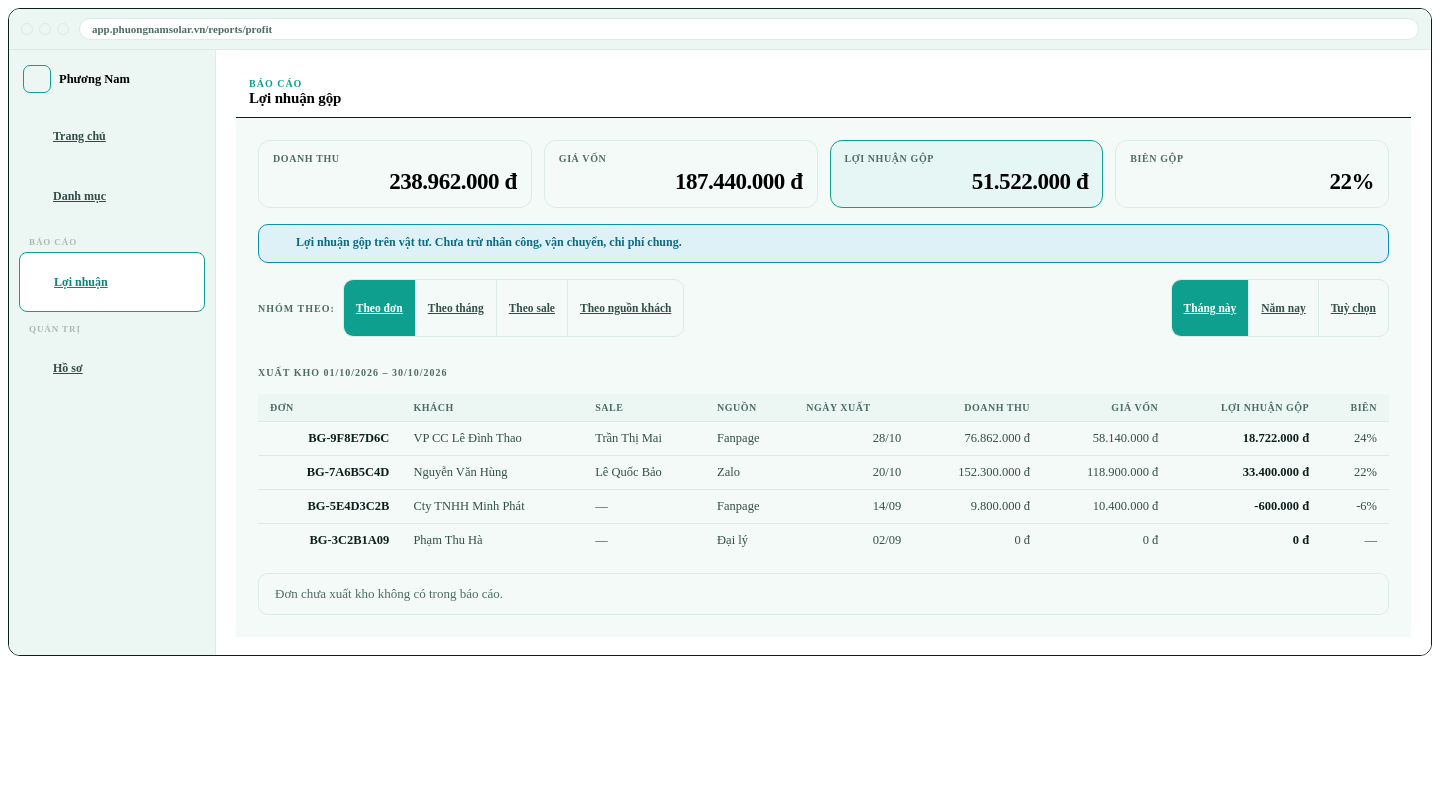
ProfitReportScreen › Theo tháng sends groupBy=month and shows label · Số đơn · money columns
This screenshot has width=1440, height=810.
Expected: the text "BG-9F8E7D6C" is shown, x1=258 y1=422 x2=401 y2=456
Click the link "Theo tháng" at (456, 308), box x1=416 y1=280 x2=497 y2=336
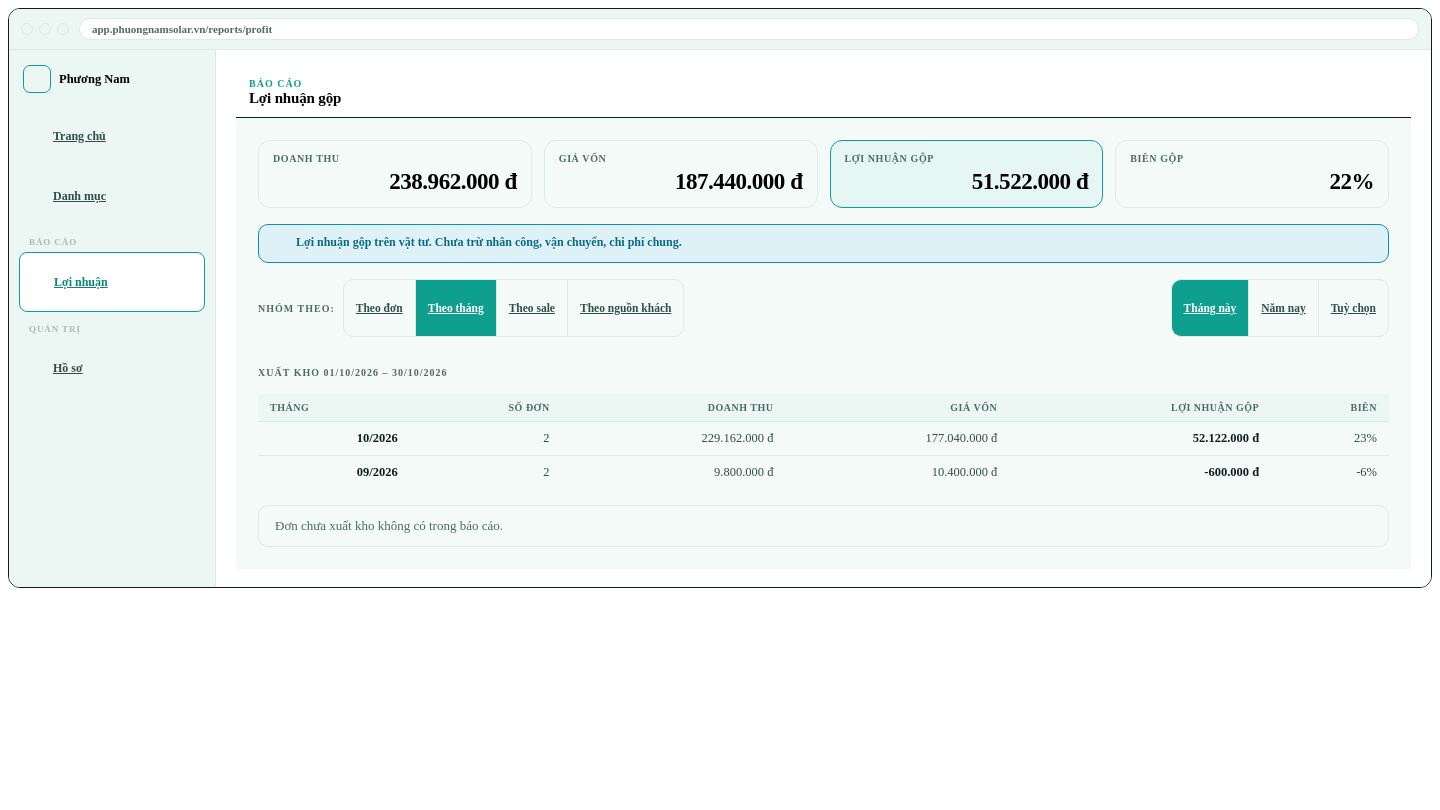
Result: the text "10/2026" is shown at x1=258 y1=422 x2=410 y2=456
